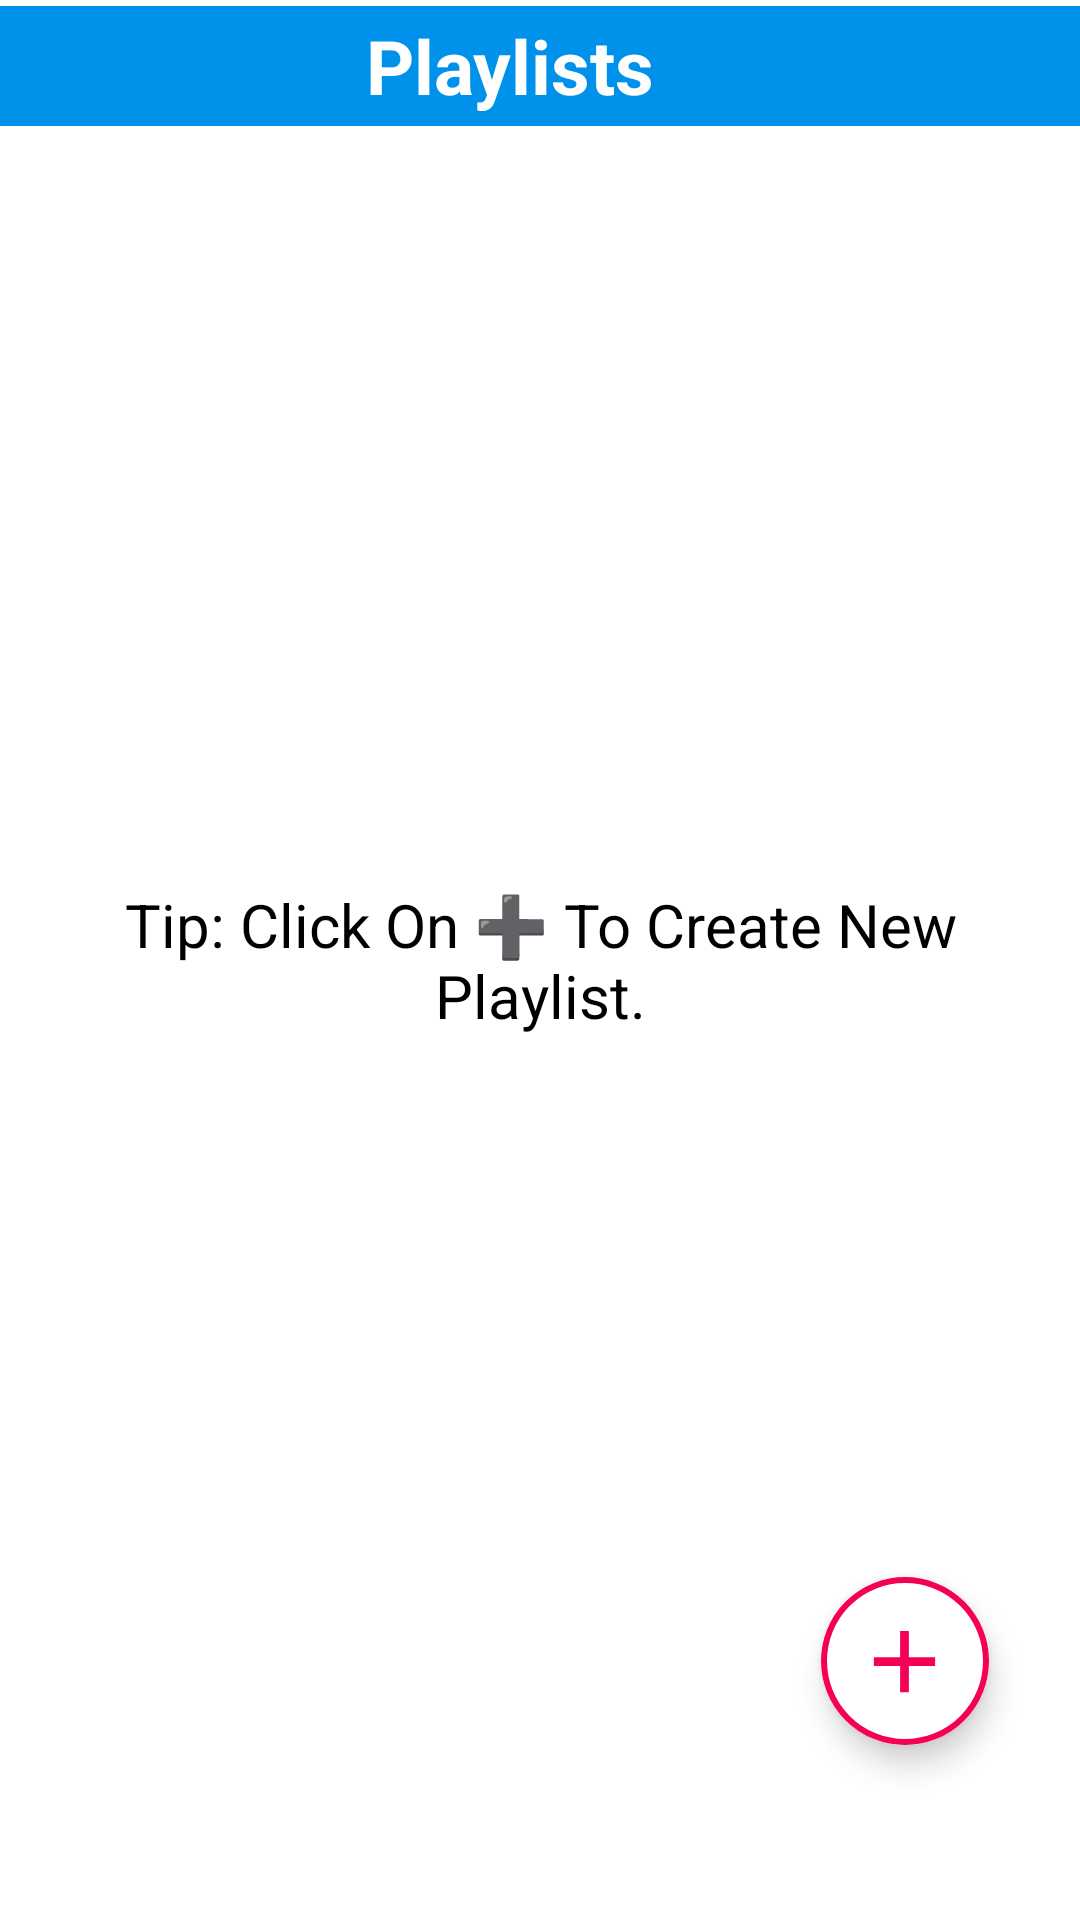

Named icons in this screenshot (1080x1920) and their bounding boxes, Rect(x1, y1, x2, y2):
add: Rect(821, 1577, 989, 1745)
